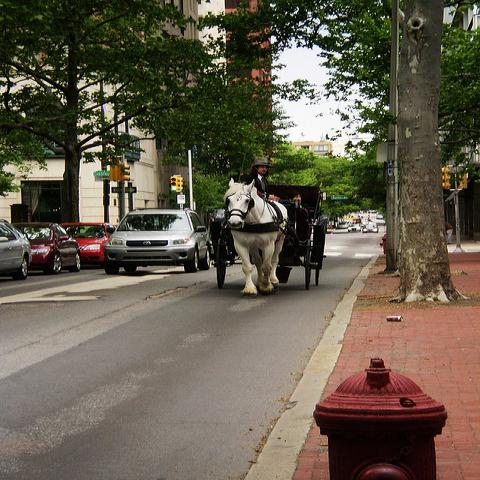car: (103, 210, 211, 270), (10, 221, 84, 274), (61, 222, 115, 266), (2, 219, 32, 277), (360, 224, 381, 234), (347, 224, 361, 232), (338, 222, 348, 228), (376, 220, 386, 226)
